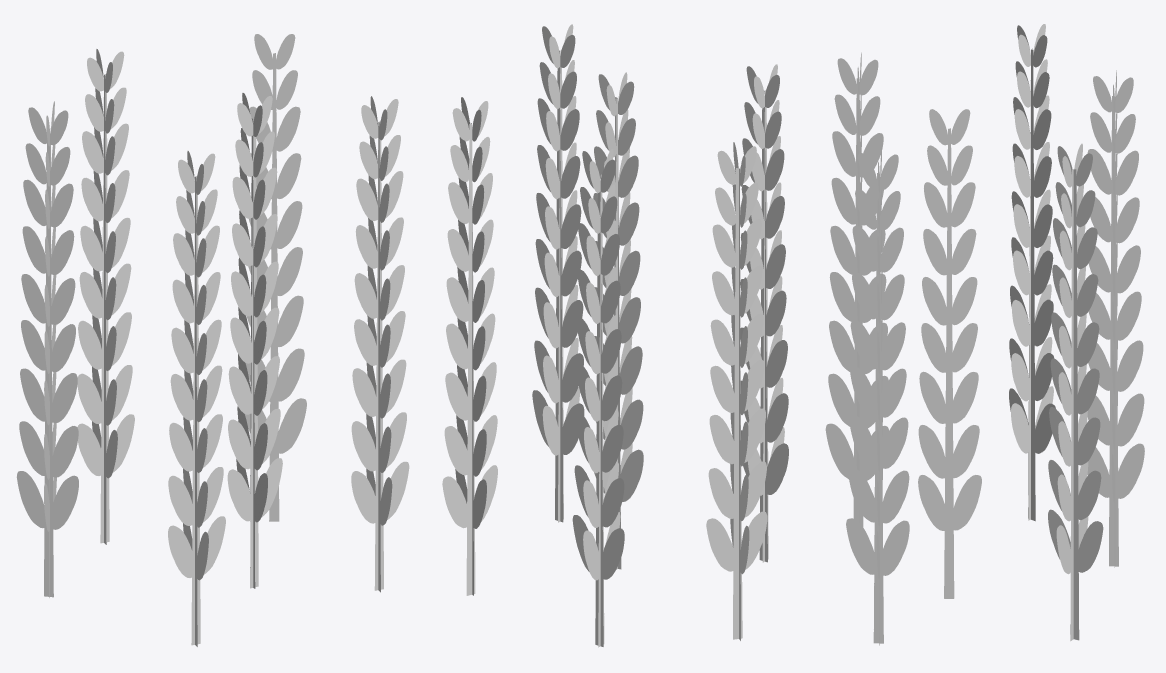
Rendered from WheatCross.fbx.
3 renders of one model, left to right at view 1: azimuth 30°, elevation 25°; view 2: azimuth 150°, elevation 25°; view 3: azimuth 270°, elevation 25°, orthographic.
Visible parts, largest first — view 1: Plane; view 2: Plane; view 3: Plane.
Boxes of the visible parts, x1,y1,x2,y2 form: Plane: [16, 34, 409, 646]; Plane: [442, 24, 788, 647]; Plane: [825, 24, 1144, 645].
Size of the model in its own units: 131 by 200 by 121.
